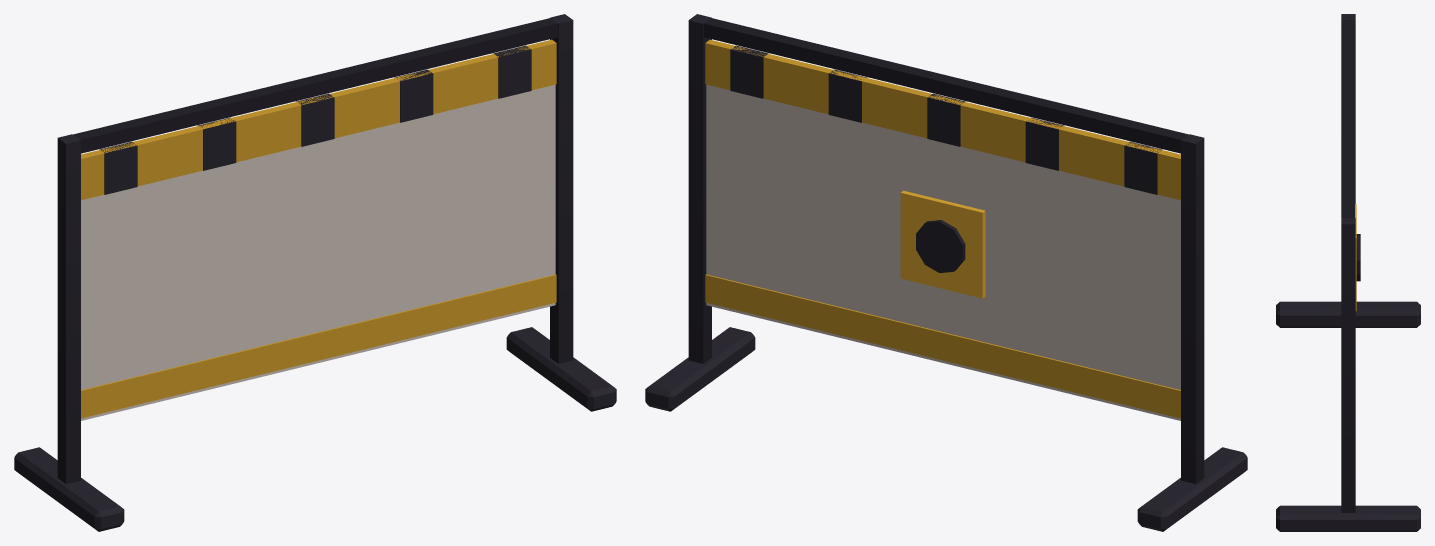
Rendered from prop.cure-quarantine-fence.glb.
The picture shows the model from 3 angles, left to right: view 1: azimuth 30°, elevation 25°; view 2: azimuth 150°, elevation 25°; view 3: azimuth 270°, elevation 25°; orthographic projection. The views are drawn at different scales.
Parts seen in each view (by area): view 1: body; view 2: body; view 3: body.
Boxes of the visible parts, box(x1,y1,x2,y2) form: body: box(14, 14, 616, 531); body: box(645, 14, 1247, 531); body: box(1276, 14, 1420, 531).
Size of the model in its own units: 3.18 by 2.1 by 0.9.
